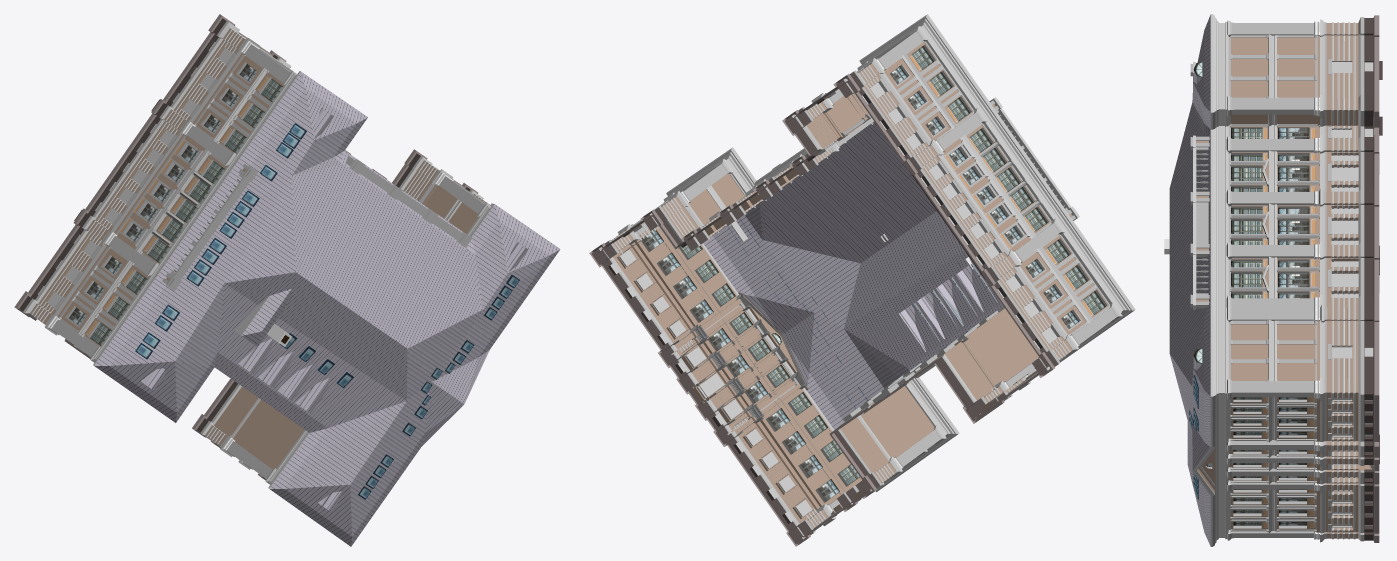
Rendered from Estonia 6 1.obj.
The picture shows the model from 3 angles, left to right: view 1: azimuth 30°, elevation 25°; view 2: azimuth 150°, elevation 25°; view 3: azimuth 270°, elevation 25°; orthographic projection. The views are drawn at different scales.
Visible parts, largest first — view 1: Mesh_Estonia_6_1; view 2: Mesh_Estonia_6_1; view 3: Mesh_Estonia_6_1.
Part boxes in pixels (box(x1,y1,x2,y2)): Mesh_Estonia_6_1: box(14, 14, 560, 546); Mesh_Estonia_6_1: box(589, 14, 1135, 546); Mesh_Estonia_6_1: box(1164, 14, 1382, 546).
Size of the model in its own units: 58.1 by 58.02 by 22.65.
